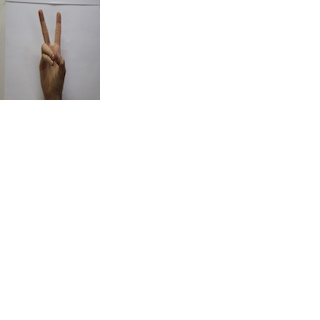scissors: (25, 8, 76, 97)
